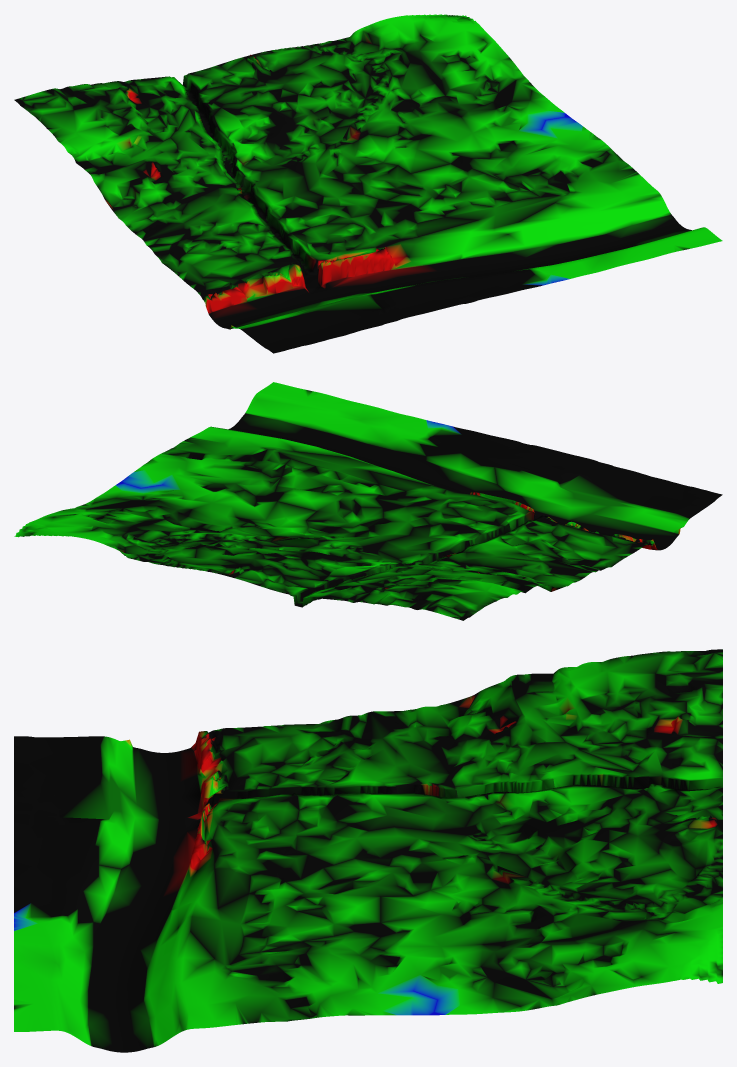
3 renders of one model, top to bottom at view 1: azimuth 30°, elevation 25°; view 2: azimuth 150°, elevation 25°; view 3: azimuth 270°, elevation 25°, orthographic. The views are drawn at different scales.
Parts seen in each view (by area): view 1: N_1_3; view 2: N_1_3; view 3: N_1_3.
Part boxes in pixels (x1,y1,x2,y2): N_1_3: [14, 14, 722, 353]; N_1_3: [14, 382, 722, 620]; N_1_3: [14, 649, 722, 1052].
Bounding box in the file's own units: 256 × 42.32 × 256.
